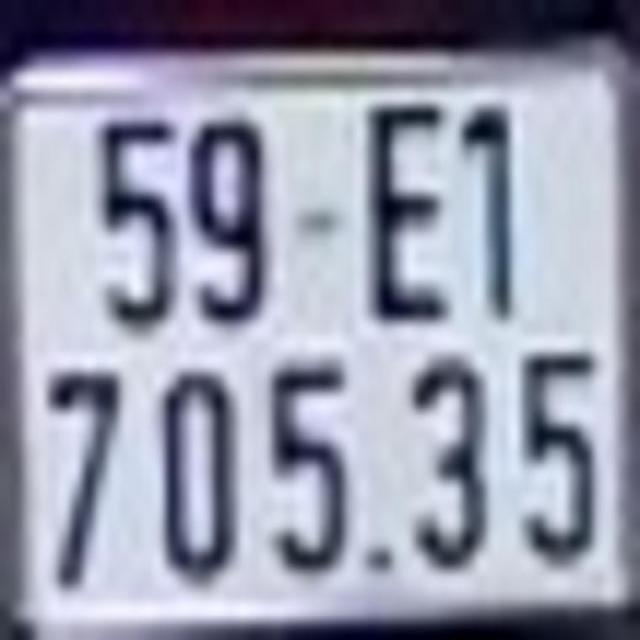0: (160, 370, 236, 569)
1: (464, 100, 515, 324)
3: (413, 352, 490, 557)
5: (99, 113, 176, 329), (520, 349, 599, 556), (272, 368, 348, 567)
7: (43, 372, 116, 588)
9: (192, 119, 263, 322)
E: (368, 102, 450, 324)
